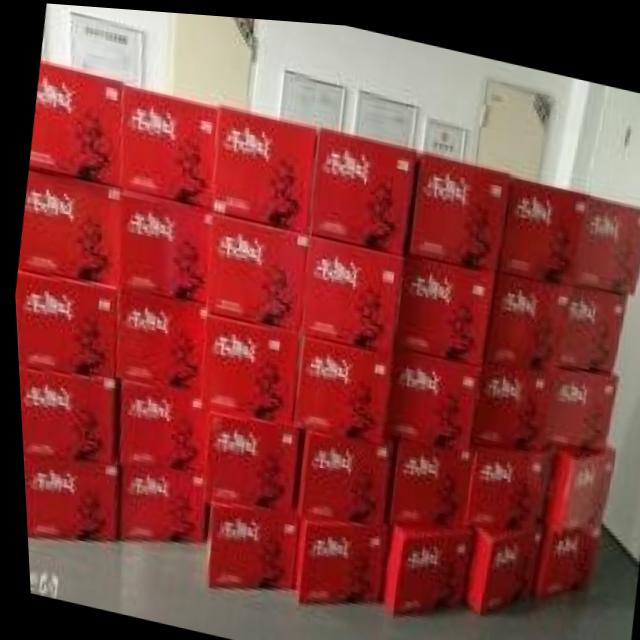box: (306, 123, 415, 250), (210, 103, 316, 230), (297, 230, 405, 350), (203, 207, 306, 330), (402, 147, 509, 264), (119, 83, 216, 207), (17, 168, 118, 285), (392, 246, 495, 360), (29, 60, 122, 186), (196, 310, 299, 422), (290, 331, 392, 442), (13, 268, 114, 375), (115, 188, 210, 301), (199, 410, 302, 510), (111, 283, 203, 394), (382, 343, 479, 446), (15, 366, 117, 463), (495, 170, 586, 278), (291, 427, 391, 520), (112, 379, 207, 476), (375, 517, 471, 611), (481, 264, 570, 363), (286, 511, 382, 599), (199, 497, 292, 587), (19, 458, 117, 540), (383, 431, 470, 522), (467, 353, 553, 442), (533, 433, 611, 526), (460, 440, 544, 523), (114, 463, 205, 538), (460, 518, 533, 609), (572, 187, 640, 284), (543, 360, 616, 442), (555, 278, 625, 363), (525, 516, 595, 594)
